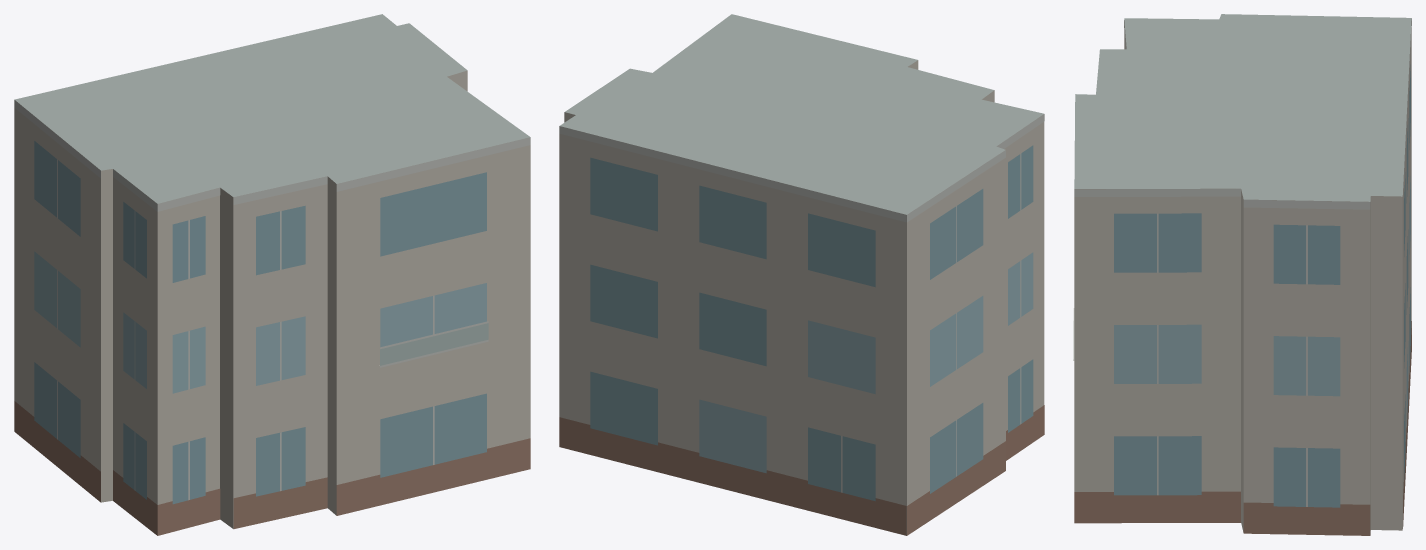
The model's file is survey-upis-32635683.glb.
3 views of the same model, side by side, from view 1: azimuth 30°, elevation 25°; view 2: azimuth 150°, elevation 25°; view 3: azimuth 270°, elevation 25° (orthographic). The views are drawn at different scales.
Visible parts, largest first — view 1: survey-upis-32635683.tmp; view 2: survey-upis-32635683.tmp; view 3: survey-upis-32635683.tmp.
Part boxes in pixels (box(x1,y1,x2,y2)): survey-upis-32635683.tmp: box(14, 14, 530, 535); survey-upis-32635683.tmp: box(559, 14, 1044, 535); survey-upis-32635683.tmp: box(1073, 14, 1411, 535).
Bounding box in the file's own units: 12.31 × 10.2 × 9.37.
